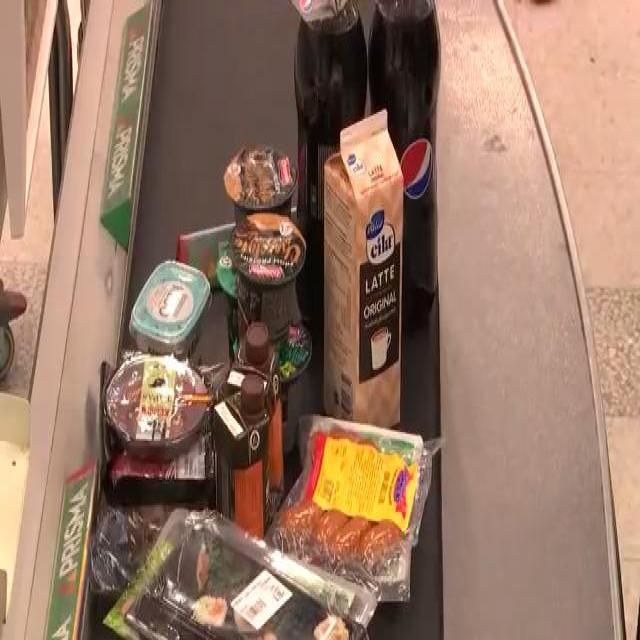beverage: (329, 133, 409, 427), (297, 1, 358, 346), (381, 1, 442, 317), (226, 337, 282, 536)
food-box: (101, 515, 373, 632), (299, 405, 438, 603), (103, 432, 227, 512), (108, 353, 205, 440), (226, 233, 308, 334), (145, 250, 205, 356), (222, 150, 298, 220)
